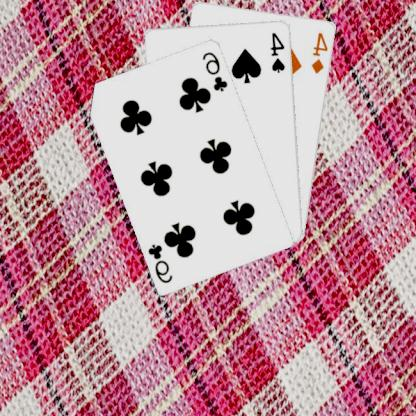4D: (311, 29, 332, 75)
4S: (270, 28, 288, 74)
6C: (201, 48, 231, 92), (147, 240, 176, 284)
